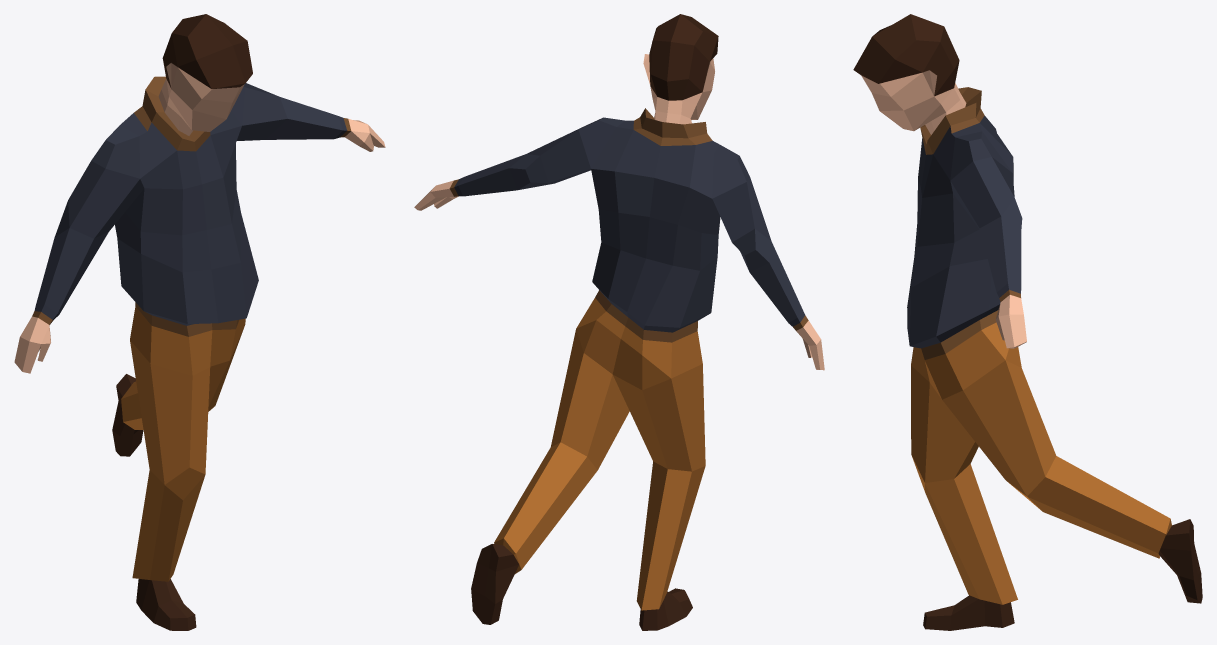
The model's file is AutumnBoy.002.glb.
3 views of the same model, side by side, from view 1: azimuth 30°, elevation 25°; view 2: azimuth 150°, elevation 25°; view 3: azimuth 270°, elevation 25° (orthographic). The views are drawn at different scales.
Parts seen in each view (by area): view 1: AutumnBoy.002; view 2: AutumnBoy.002; view 3: AutumnBoy.002.
Part boxes in pixels (x1,y1,x2,y2): AutumnBoy.002: (14,14,385,630); AutumnBoy.002: (414,14,824,630); AutumnBoy.002: (853,14,1202,630).
Bounding box in the file's own units: 1.04 × 1.53 × 0.7877.
Materials: 1 (1 with a texture image).
